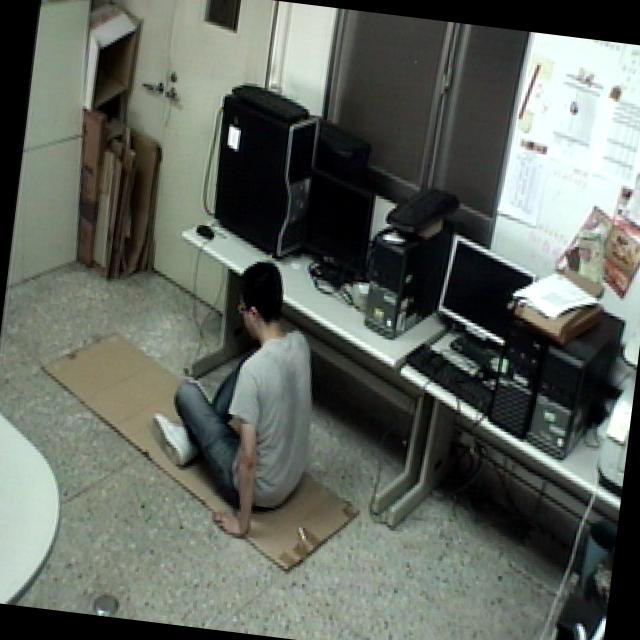sit: (130, 244, 344, 549)
